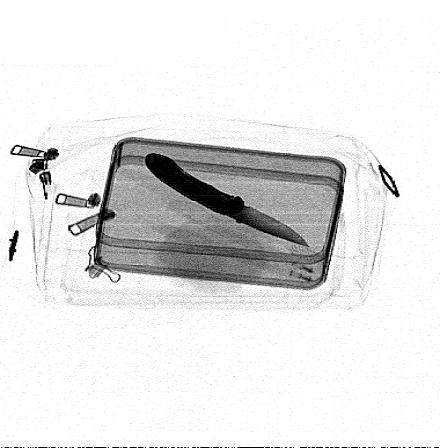Knife: (144, 152, 311, 248)
